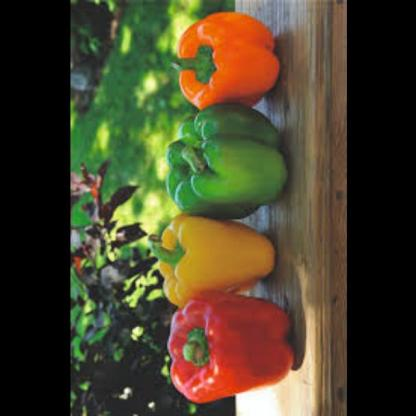bell pepper: (164, 290, 296, 405), (164, 106, 294, 216), (148, 214, 278, 305), (168, 8, 278, 107)
